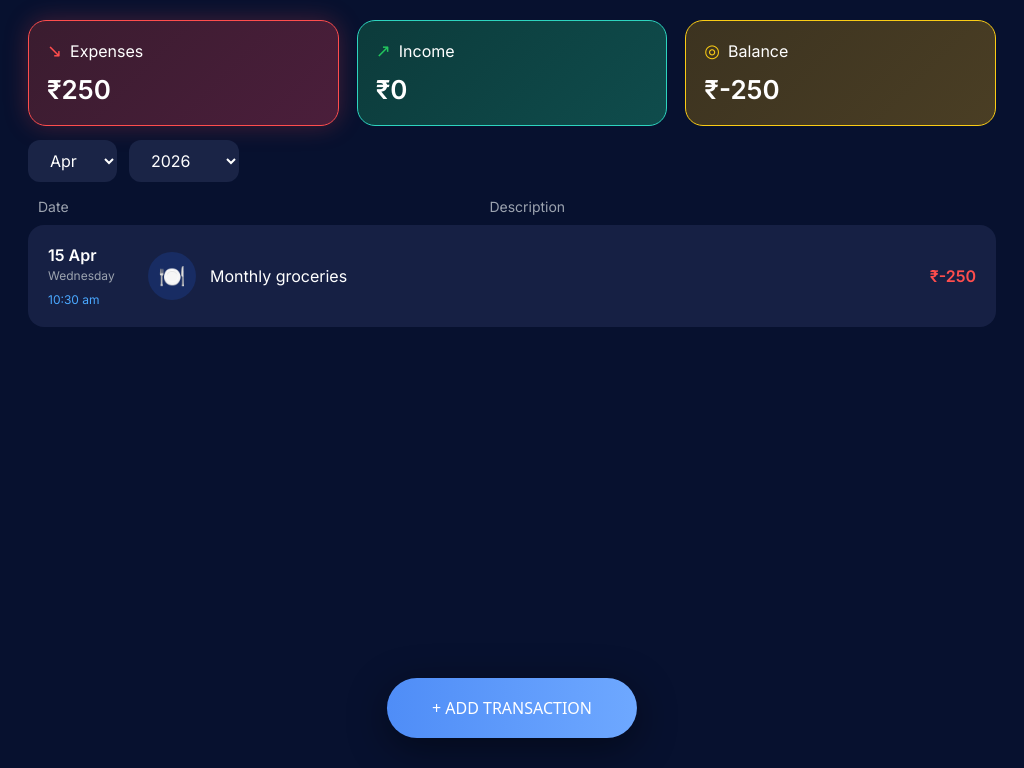
it: Records transaction flow › filters transactions when a different month is selected from the dropdown
Expected: the text "Monthly groceries" is shown, [210, 264, 347, 288]
Expected: the text "Trip booking" is not shown
Select "May" in the dropdown named "month" at (72, 161), box [28, 140, 117, 182]
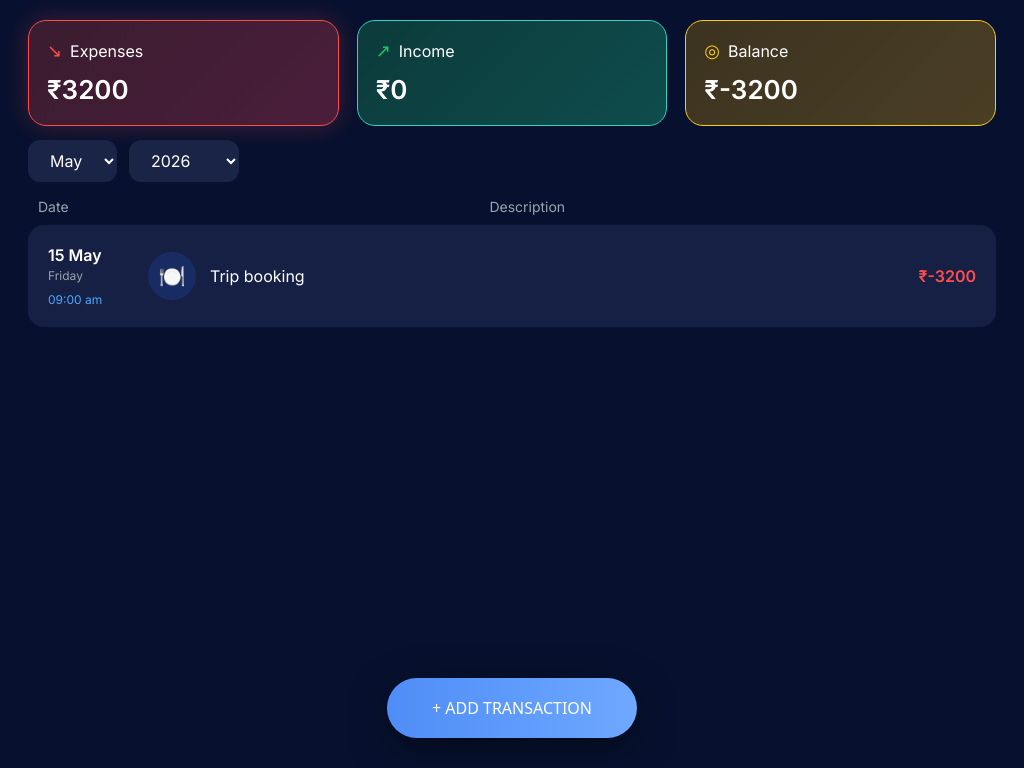
Now the text "Trip booking" is shown, box [210, 264, 305, 288]
Now the text "Monthly groceries" is gone
